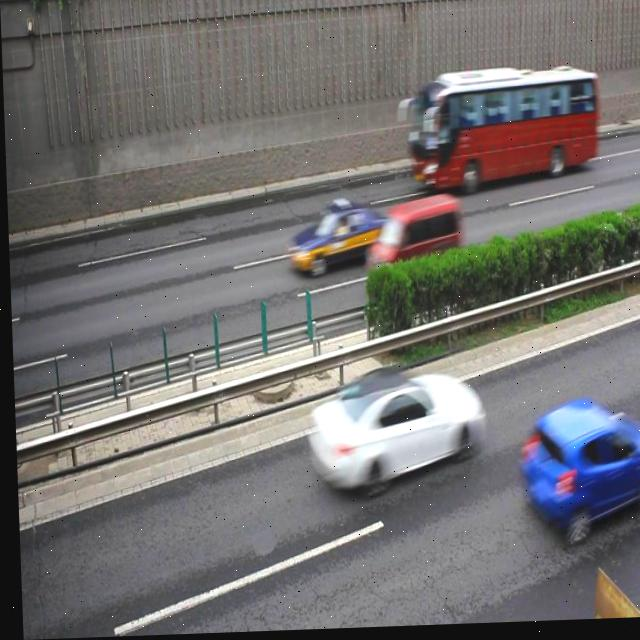car: (301, 371, 482, 495), (512, 405, 638, 547), (285, 199, 387, 278)
truck: (366, 199, 457, 294)
van: (404, 65, 598, 191)
